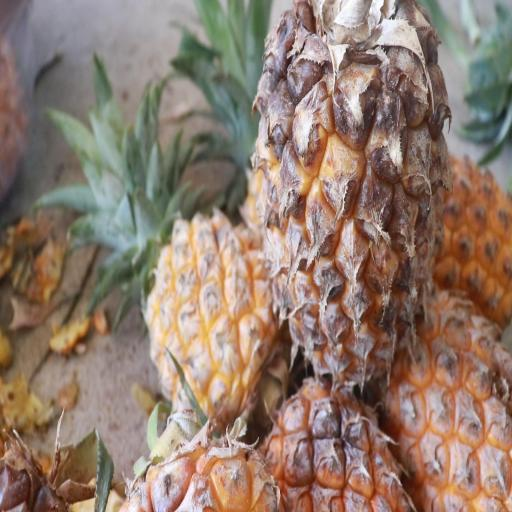Pineapple - v8 v1: (253, 1, 456, 377), (136, 99, 296, 427), (380, 269, 512, 507)
